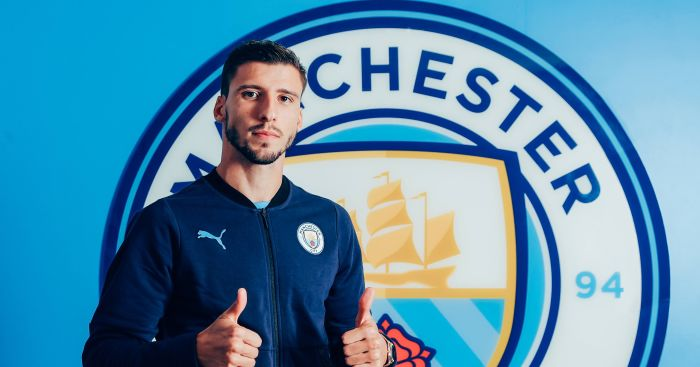thumbsUp: (192, 281, 263, 367), (324, 282, 392, 367)
